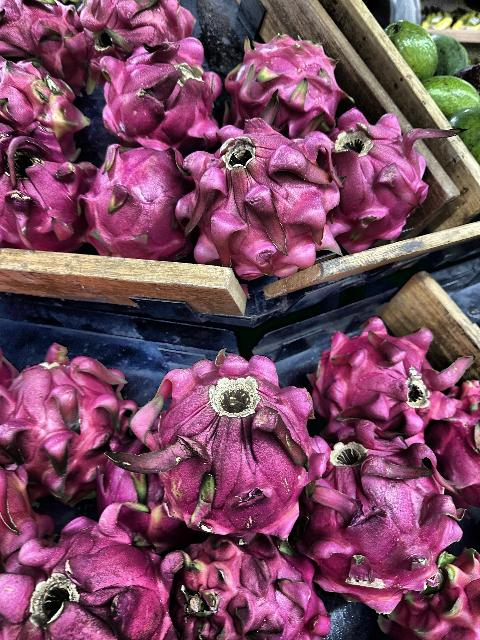buah-naga-belum-matang: (0, 55, 92, 171)
buah-naga-matang: (119, 342, 341, 546), (294, 440, 468, 626), (296, 328, 480, 468), (0, 512, 180, 640), (181, 130, 339, 266), (151, 528, 339, 640), (316, 102, 460, 246), (0, 349, 128, 501), (94, 34, 220, 146), (80, 141, 192, 263), (0, 132, 98, 258), (231, 25, 337, 138), (63, 0, 198, 68)
